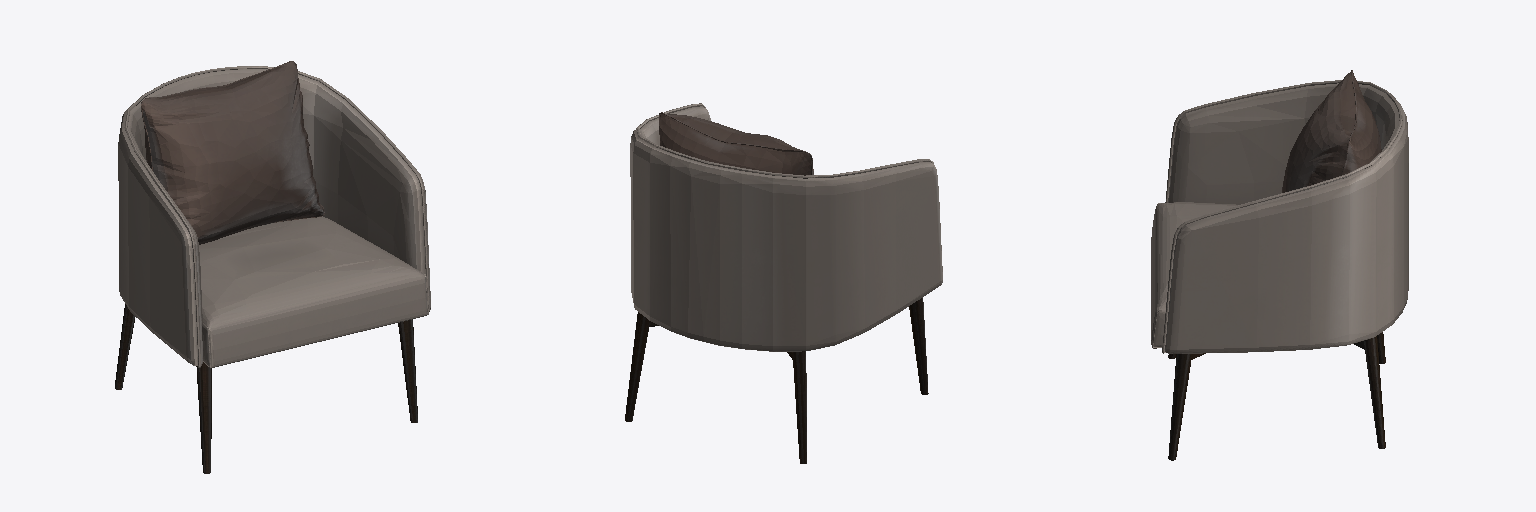
The picture shows the model from 3 angles: view 1: azimuth 30°, elevation 25°; view 2: azimuth 150°, elevation 25°; view 3: azimuth 270°, elevation 25°; orthographic projection.
Parts seen in each view (by area): view 1: solid_002, solid_003, solid_001; view 2: solid_002, solid_003, solid_001; view 3: solid_002, solid_003, solid_001.
Boxes of the visible parts, <box> form: solid_002: <box>118,66,430,367</box>; solid_003: <box>141,61,324,244</box>; solid_001: <box>115,304,417,473</box>; solid_002: <box>630,103,942,351</box>; solid_003: <box>659,112,813,175</box>; solid_001: <box>625,298,928,463</box>; solid_002: <box>1151,80,1408,353</box>; solid_003: <box>1282,70,1381,192</box>; solid_001: <box>1168,332,1385,460</box>.
Bounding box in the file's own units: 0.9503 × 1.14 × 0.8774.
Materials: 1 (1 with a texture image).